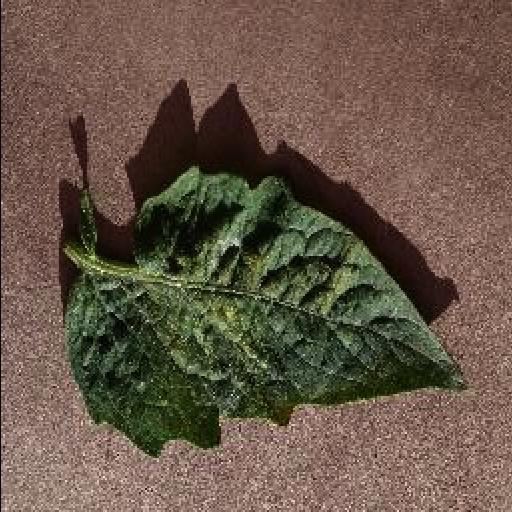disease_tomato: (63, 167, 469, 455)
